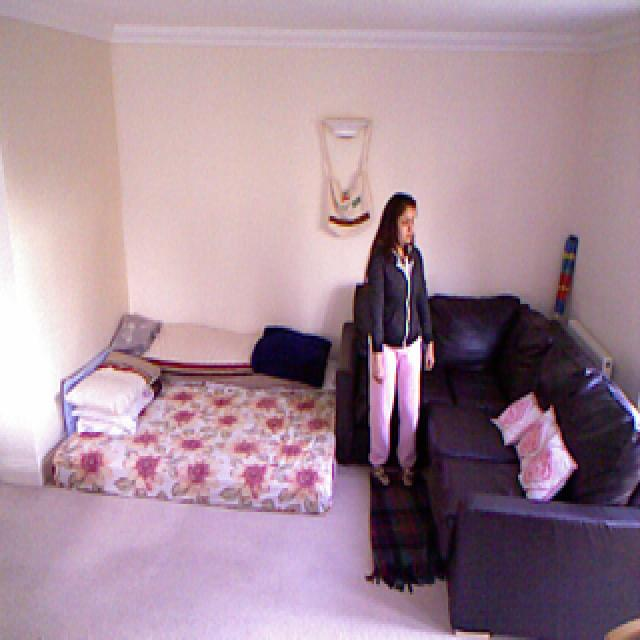standing: (364, 192, 435, 488)
